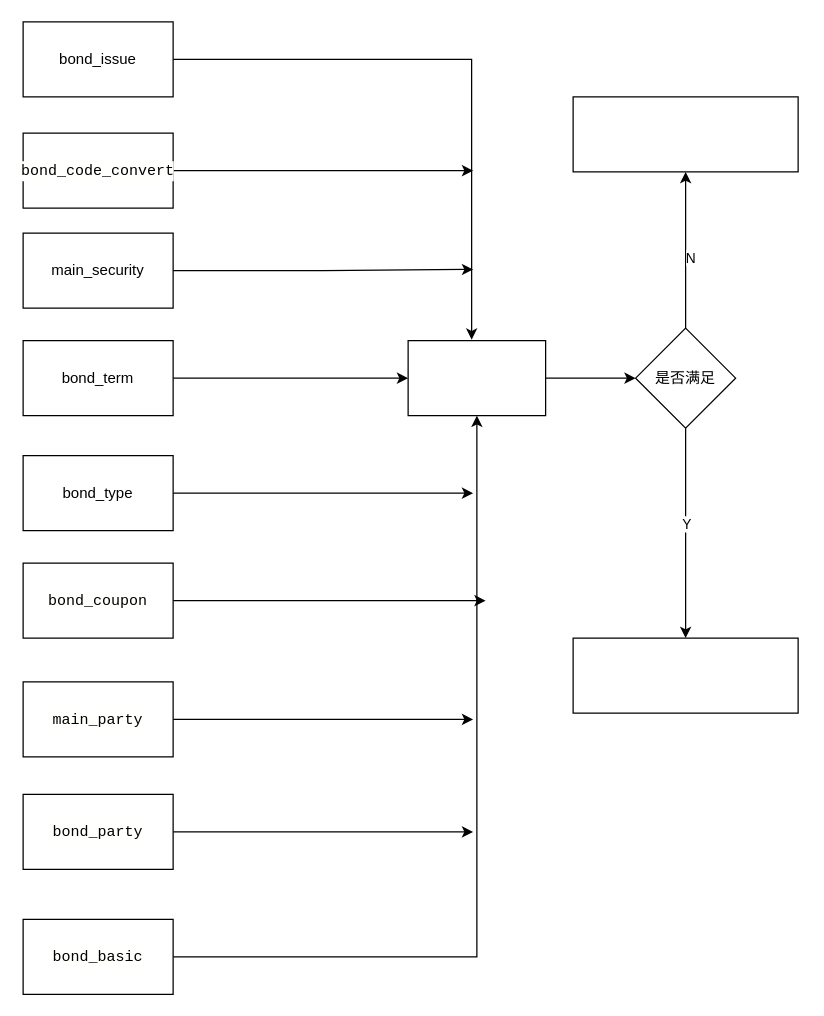
This 824x1016 diagram has some shape labels left out. Here are the shapes that lost their labels. From the top down, the centre of each, then its label:
At point 685,134: "dmdc.pa_bond_interest_warn".
At point 476,377: "数据join汇总".
At point 685,675: "dmdc.pa_bond_interest".
